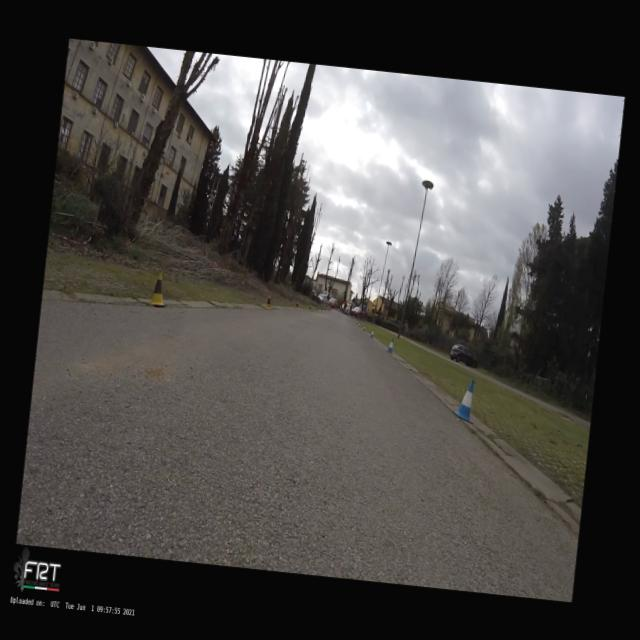blue_cone: (452, 378, 478, 423), (385, 336, 394, 354), (368, 328, 374, 338), (362, 324, 366, 330)
yellow_cone: (146, 268, 170, 306), (263, 294, 272, 310), (294, 300, 300, 310), (308, 304, 312, 311)
